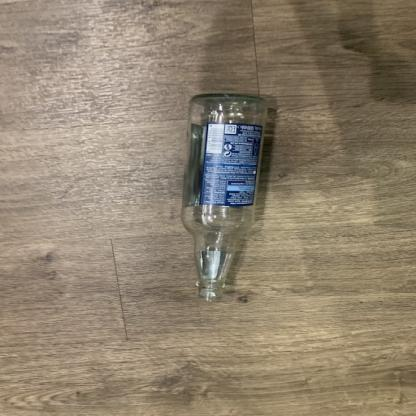trash: (178, 91, 270, 309)
